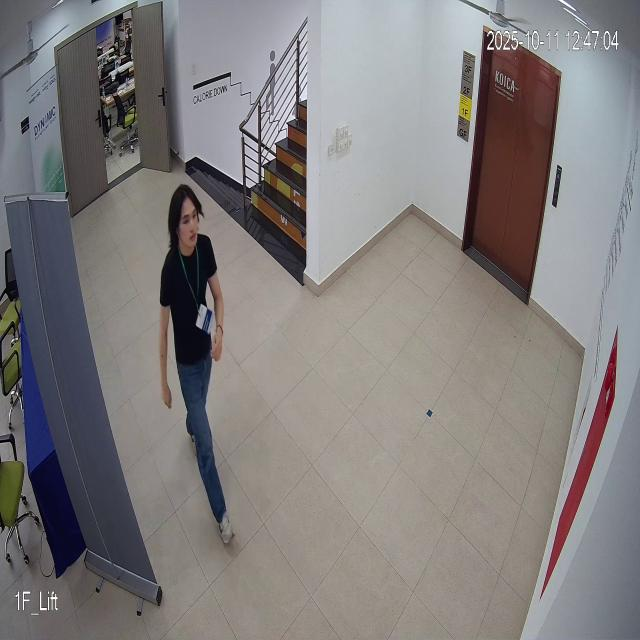face: (164, 183, 206, 264)
